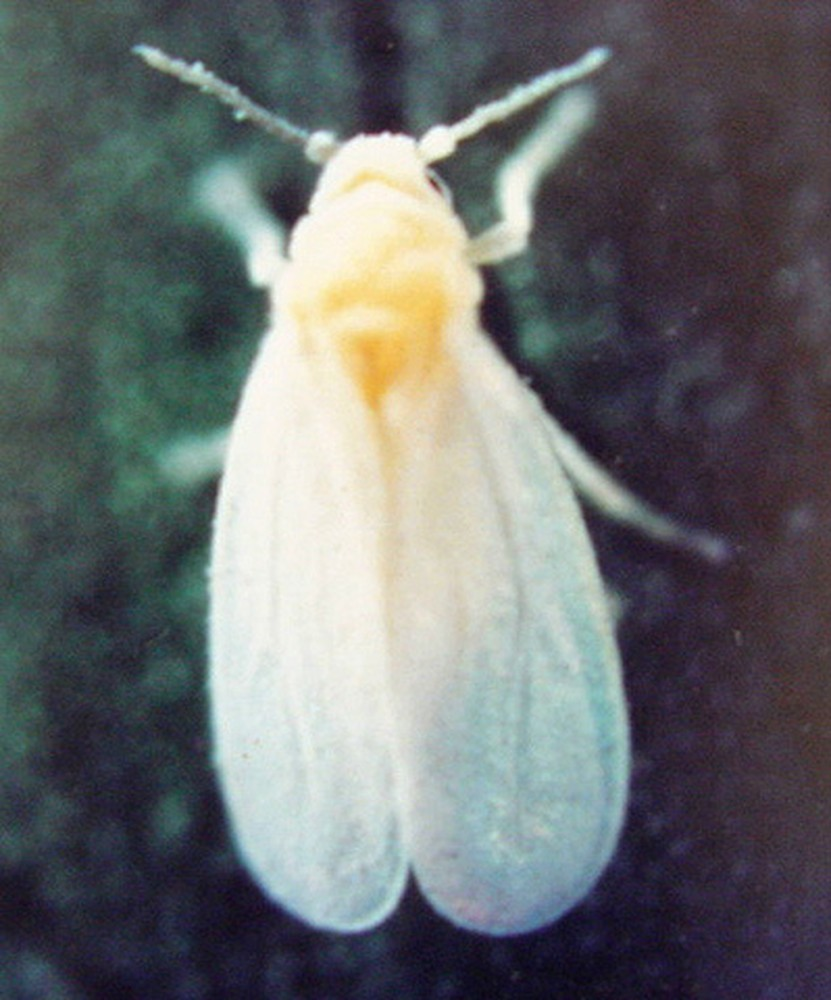Mosca Blanca: (120, 33, 742, 952)
